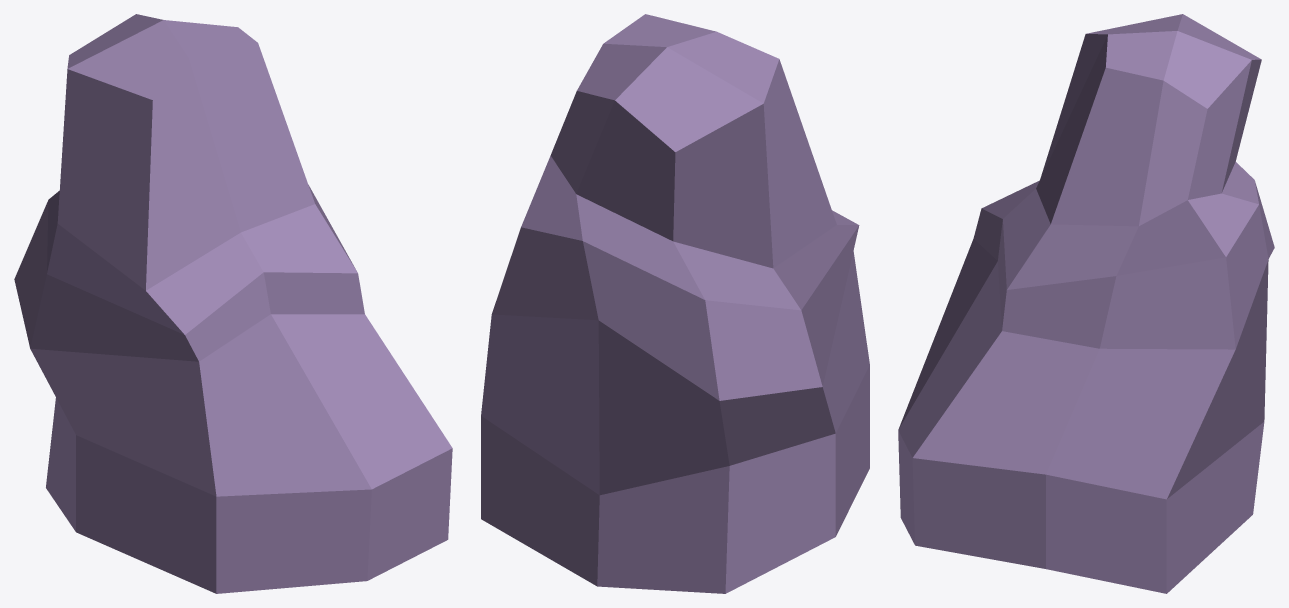
Rendered from Rock_19Color2.fbx.
The picture shows the model from 3 angles, left to right: view 1: azimuth 30°, elevation 25°; view 2: azimuth 150°, elevation 25°; view 3: azimuth 270°, elevation 25°; orthographic projection. The views are drawn at different scales.
Visible parts, largest first — view 1: Rock_19; view 2: Rock_19; view 3: Rock_19.
Boxes of the visible parts, bbox=[...] form: Rock_19: bbox=[14, 14, 452, 593]; Rock_19: bbox=[481, 14, 869, 593]; Rock_19: bbox=[898, 14, 1274, 593].
Size of the model in its own units: 426 by 626 by 447.
